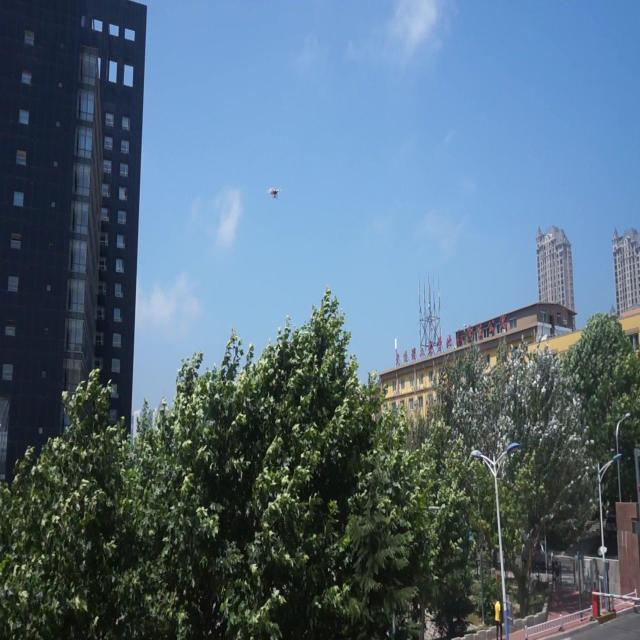drone: (267, 184, 279, 201)
